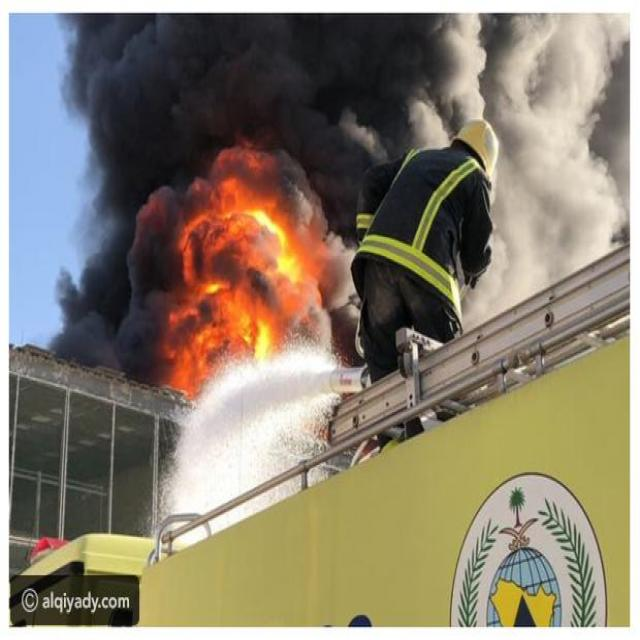Fire: (154, 152, 327, 402)
Smoke: (65, 16, 429, 358)
